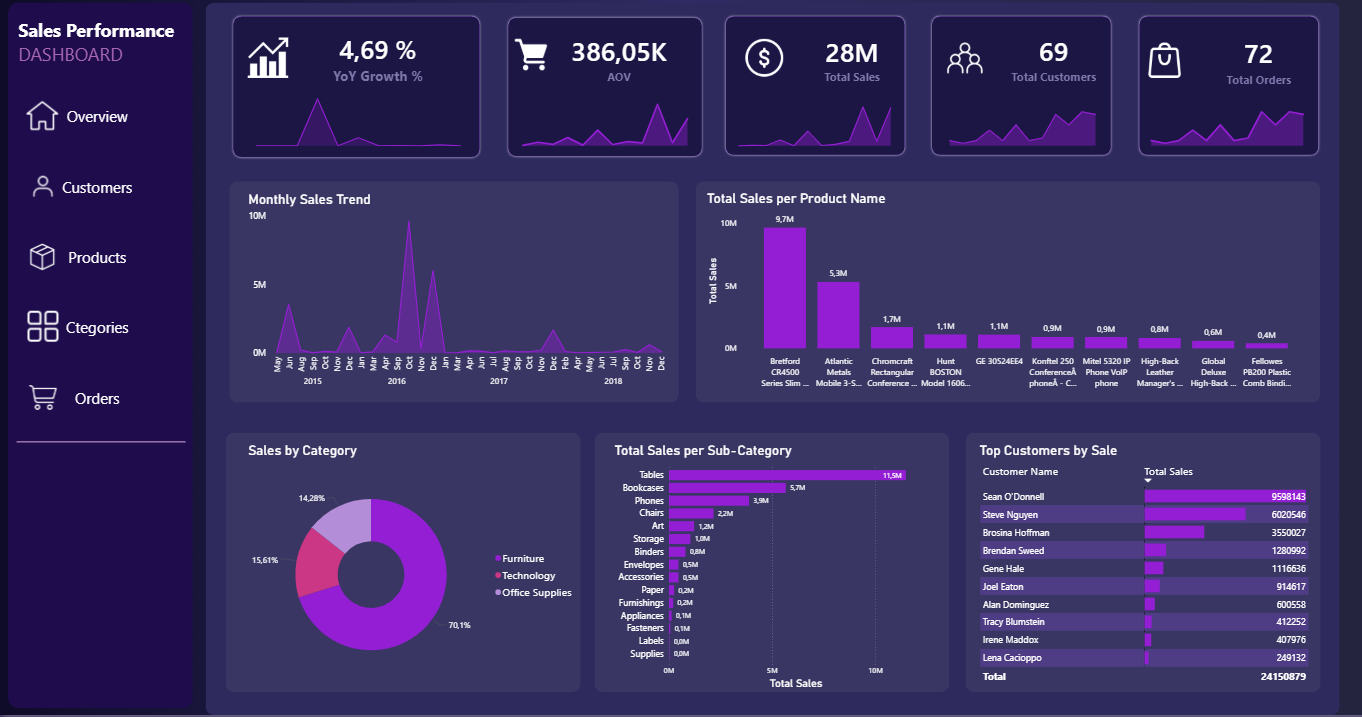

What the dashboard file says about the page in this screenshot:
{"tool":"powerbi","page":{"name":"Page 2","canvas":[2450,1300],"ordinal":0},"visuals":[{"type":"shape","box":[17.8,31.1,328.9,1255.6],"z":0},{"type":"shape","box":[370,32,2018,1268],"z":1000},{"type":"shape","box":[414,52,448,260],"z":2000},{"type":"shape","box":[1658,52,328,256],"z":3000},{"type":"shape","box":[2026,52,328,256],"z":4000},{"type":"shape","box":[1290,52,328,256],"z":5000},{"type":"shape","box":[405.6,795.6,632,462],"z":6000},{"type":"shape","box":[1061.6,795.6,632,462],"z":7000},{"type":"shape","box":[1721.6,795.6,632,462],"z":8000},{"type":"shape","box":[1242,350,1112,394],"z":9000},{"type":"shape","box":[412,350,800,394],"z":10000},{"type":"cardVisual","fields":{"Data":["Mesures.YoY Growth %"]},"box":[540,22,272,214],"z":11000},{"type":"image","box":[440,94,80,72],"z":12000},{"type":"shape","box":[902,54,354,256],"z":13000},{"type":"areaChart","fields":{"Category":["date_table.Month"],"Y":["Mesures.YoY Growth %"]},"box":[440,180,402,112],"z":14000},{"type":"image","box":[918,94,60,58],"z":15000},{"type":"cardVisual","fields":{"Data":["Mesures.AOV"]},"box":[986,68,240,122],"z":16000},{"type":"areaChart","fields":{"Category":["date_table.Month"],"Y":["Mesures.AOV"]},"box":[918,182,324,110],"z":17000},{"type":"cardVisual","fields":{"Data":["Mesures.Total Sales"]},"box":[1434,68,170,124],"z":18000},{"type":"image","box":[1322,94,84,72],"z":19000},{"type":"areaChart","fields":{"Category":["date_table.Month"],"Y":["Mesures.Total Sales"]},"box":[1304,202,300,90],"z":20000},{"type":"cardVisual","fields":{"Data":["Mesures.Total Costumers"]},"box":[1770,64,216,132],"z":21000},{"type":"image","box":[1684,98,74,64],"z":22000},{"type":"areaChart","fields":{"Category":["date_table.Month"],"Y":["Mesures.Total Costumers"]},"box":[1680,202,288,90],"z":23000},{"type":"cardVisual","fields":{"Data":["Mesures.Total Orders"]},"box":[2148,76,190,118],"z":24000},{"type":"image","box":[2038,98,76,72],"z":25000},{"type":"areaChart","fields":{"Category":["date_table.Month"],"Y":["Mesures.Total Orders"]},"box":[2038,202,300,90],"z":26000},{"type":"lineChart","title":"Monthly Sales Trend","fields":{"Y":["Mesures.Total Sales"],"Category":["date_table.Date.Variation.Date Hierarchy.Year","date_table.Month"]},"box":[440,366,754,362],"z":27000},{"type":"clusteredColumnChart","title":"Total Sales per Product Name","fields":{"Y":["Mesure.Total Sales"],"Category":["products.Product Name"]},"box":[1256.1,365.9,1082.9,361],"z":28000},{"type":"donutChart","title":"Sales by Category","fields":{"Category":["products.Category"],"Y":["Mesure.Total Sales"]},"box":[440,813.3,595,443.3],"z":29000},{"type":"clusteredBarChart","title":"Total Sales per Sub-Category","fields":{"Category":["products.Sub-Category"],"Y":["Mesure.Total Sales"]},"box":[1091.1,813.3,573.3,444.4],"z":30000},{"type":"tableEx","title":"Top Customers by Sale","fields":{"Values":["customers.Customer Name","Mesure.Total Sales"]},"box":[1742.2,813.3,595.6,440],"z":31000},{"type":"textbox","box":[31.1,53.3,408.9,131.1],"z":32000},{"type":"actionButton","title":"Overview","box":[46.7,200.4,260,64.4],"z":33000},{"type":"actionButton","title":"Overview","box":[46.7,324.3,260,66.7],"z":34000},{"type":"actionButton","title":"Overview","box":[46.7,450.4,260,64.4],"z":35000},{"type":"actionButton","title":"Overview","box":[46.7,574.3,260,66.7],"z":36000},{"type":"actionButton","title":"Overview","box":[46.7,700.4,260,66.7],"z":37000},{"type":"shape","box":[33.3,768.9,300,86.7],"z":38000}]}

Visuals, with their boxes on the page's 2450x1300 design canvas (x1, y1, x2, y2). These are canvas units, not pixel positions in the 1362x717 screenshot, which may show the page scaled, cropped or inside an application window:
shape: 18/31/347/1287
shape: 370/32/2388/1300
shape: 414/52/862/312
shape: 1658/52/1986/308
shape: 2026/52/2354/308
shape: 1290/52/1618/308
shape: 406/796/1038/1258
shape: 1062/796/1694/1258
shape: 1722/796/2354/1258
shape: 1242/350/2354/744
shape: 412/350/1212/744
cardVisual - Mesures.YoY Growth %: 540/22/812/236
image: 440/94/520/166
shape: 902/54/1256/310
areaChart - date_table.Month x Mesures.YoY Growth %: 440/180/842/292
image: 918/94/978/152
cardVisual - Mesures.AOV: 986/68/1226/190
areaChart - date_table.Month x Mesures.AOV: 918/182/1242/292
cardVisual - Mesures.Total Sales: 1434/68/1604/192
image: 1322/94/1406/166
areaChart - date_table.Month x Mesures.Total Sales: 1304/202/1604/292
cardVisual - Mesures.Total Costumers: 1770/64/1986/196
image: 1684/98/1758/162
areaChart - date_table.Month x Mesures.Total Costumers: 1680/202/1968/292
cardVisual - Mesures.Total Orders: 2148/76/2338/194
image: 2038/98/2114/170
areaChart - date_table.Month x Mesures.Total Orders: 2038/202/2338/292
"Monthly Sales Trend" lineChart: 440/366/1194/728
"Total Sales per Product Name" clusteredColumnChart: 1256/366/2339/727
"Sales by Category" donutChart: 440/813/1035/1257
"Total Sales per Sub-Category" clusteredBarChart: 1091/813/1664/1258
"Top Customers by Sale" tableEx: 1742/813/2338/1253
textbox: 31/53/440/184
"Overview" actionButton: 47/200/307/265
"Overview" actionButton: 47/324/307/391
"Overview" actionButton: 47/450/307/515
"Overview" actionButton: 47/574/307/641
"Overview" actionButton: 47/700/307/767
shape: 33/769/333/856
